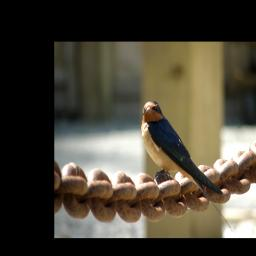Swallow: (140, 100, 235, 233)
